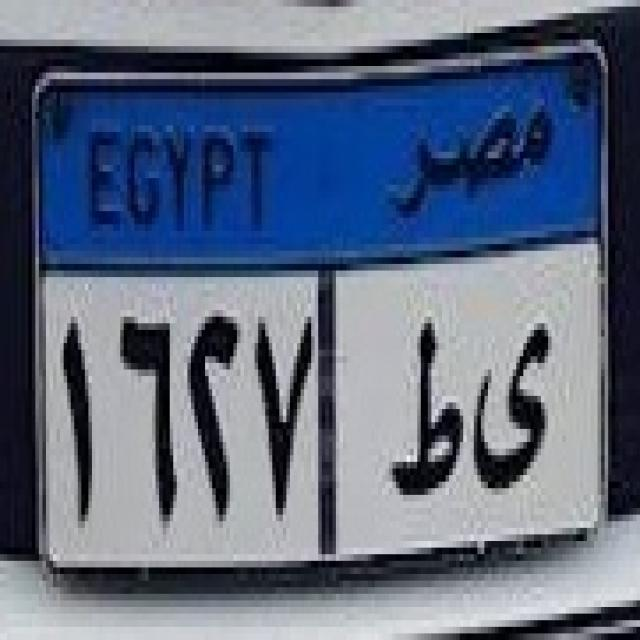1: (58, 304, 99, 541)
2: (187, 304, 244, 532)
6: (116, 306, 178, 542)
7: (249, 309, 317, 523)
Taa: (382, 316, 462, 514)
Yeeh: (468, 308, 554, 504)
